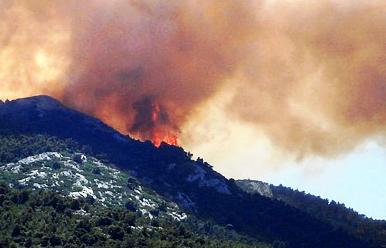fire: (143, 119, 182, 156)
